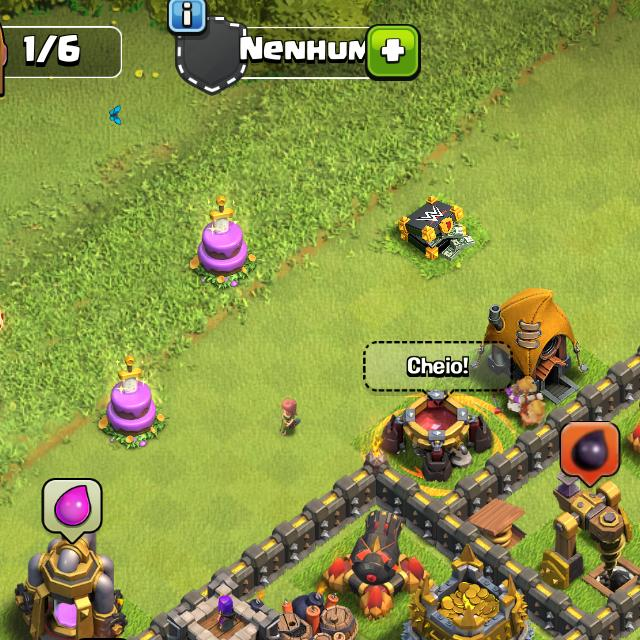Elixir: (44, 479, 104, 545)
FullElixirNegro: (561, 422, 621, 488)
